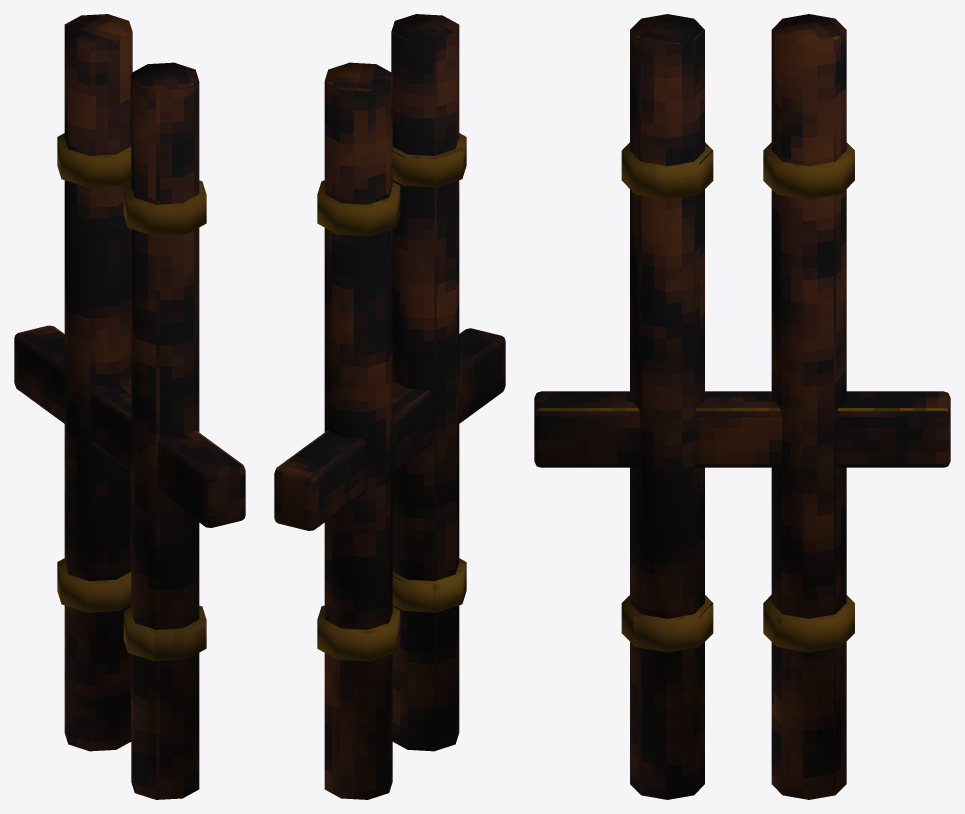
Rendered from gorge_bars_side.obj.
The picture shows the model from 3 angles, left to right: view 1: azimuth 30°, elevation 25°; view 2: azimuth 150°, elevation 25°; view 3: azimuth 270°, elevation 25°; orthographic projection. The views are drawn at different scales.
Visible parts, largest first — view 1: part0, part1; view 2: part0, part1; view 3: part0, part1.
Boxes of the visible parts, x1,y1,x2,y2 form: part0: (14,14,245,799); part1: (57,133,206,661); part0: (274,14,505,799); part1: (317,133,466,661); part0: (534,14,950,799); part1: (621,142,854,652).
Size of the model in its own units: 0.11 by 1 by 0.5.
